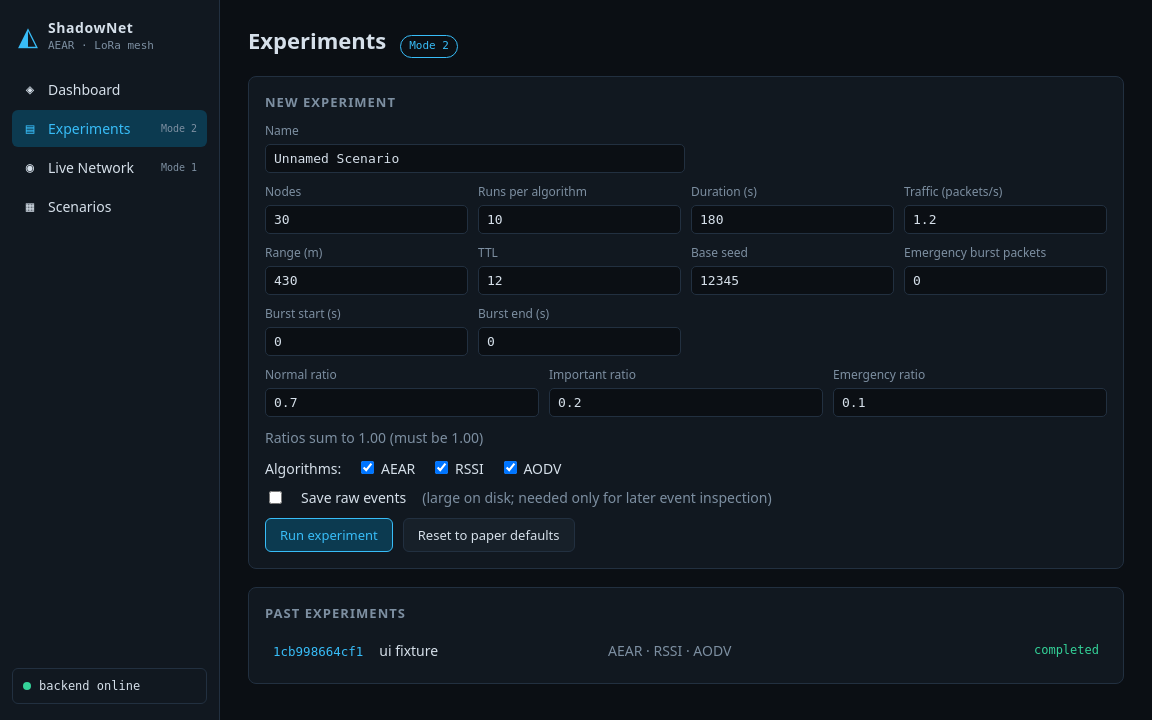
Test: Experiments (Mode 2) › cannot be submitted with no algorithm selected
This screenshot has width=1152, height=720.
Expected: the number field labelled "Nodes" is shown, left=265, top=205, right=468, bottom=234
Click the checkbox labelled "AEAR" at [368, 468], box left=361, top=461, right=374, bottom=474
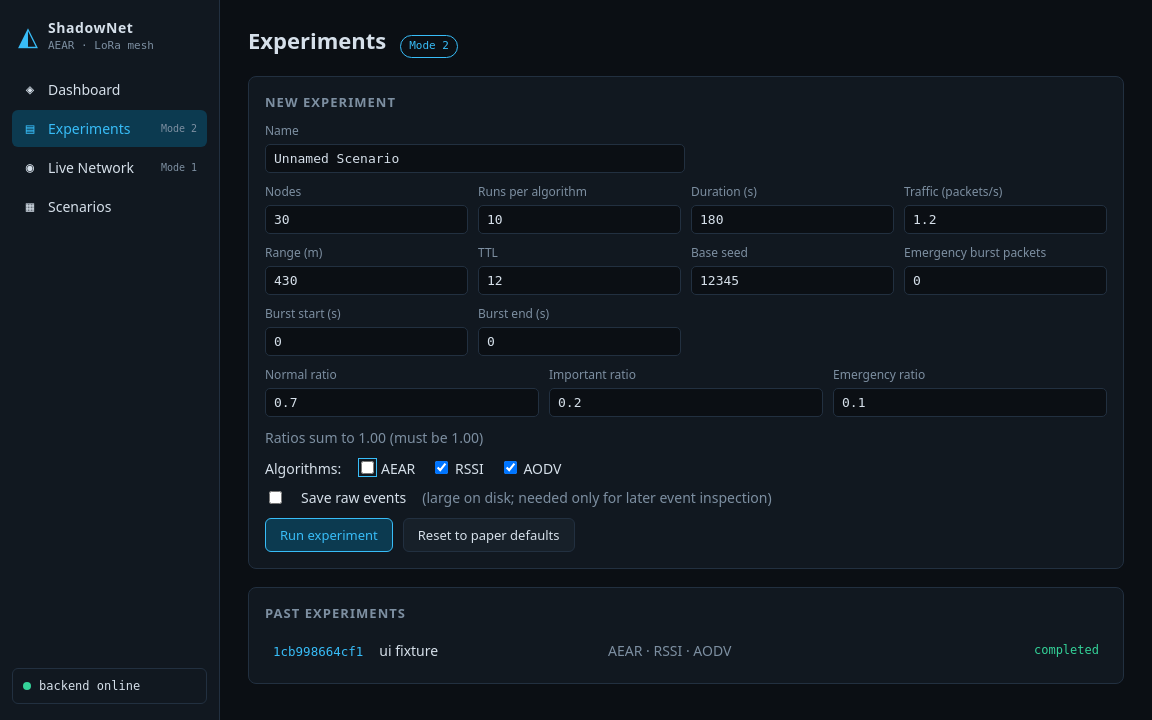
Click the checkbox labelled "RSSI" at [442, 468], box left=435, top=461, right=448, bottom=474
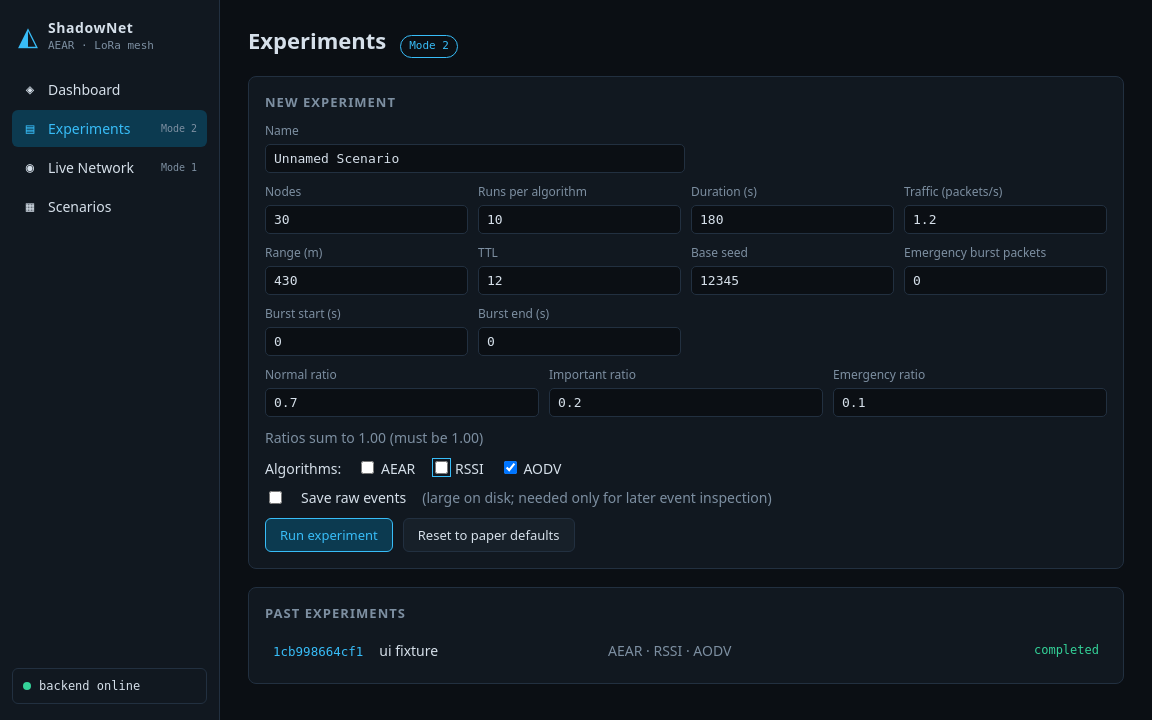
Click the checkbox labelled "AODV" at [510, 468], box left=504, top=461, right=517, bottom=474
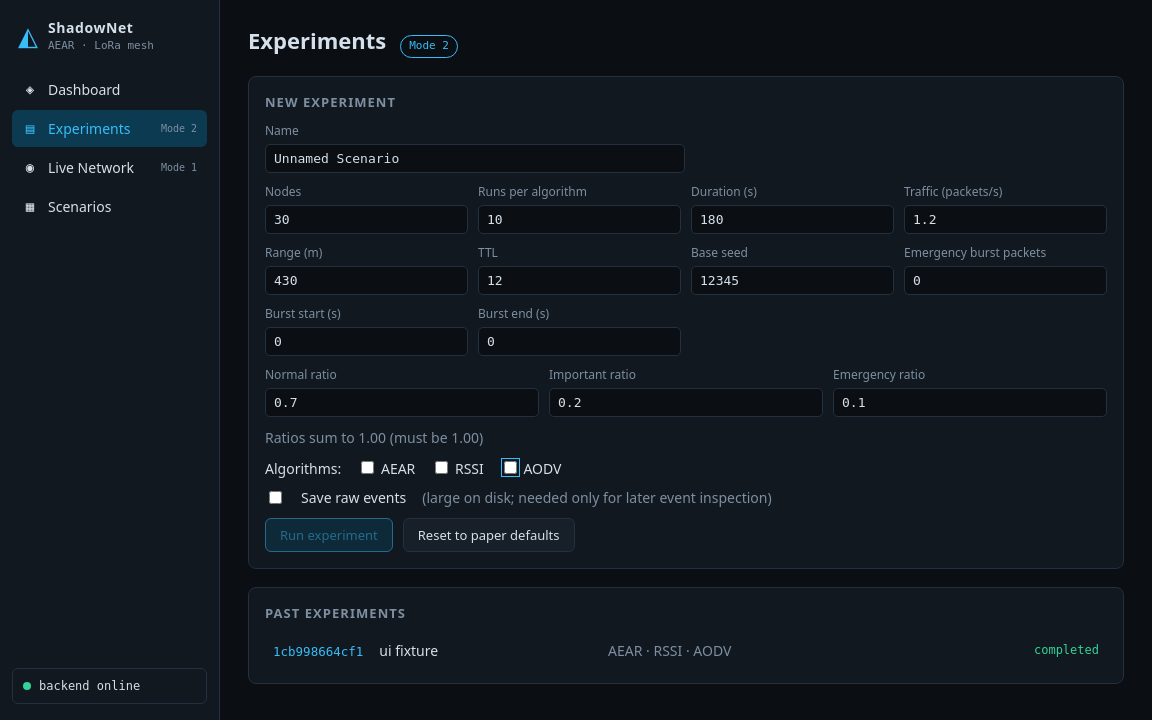
Expected: the button "Run experiment" is disabled, left=265, top=518, right=393, bottom=552
